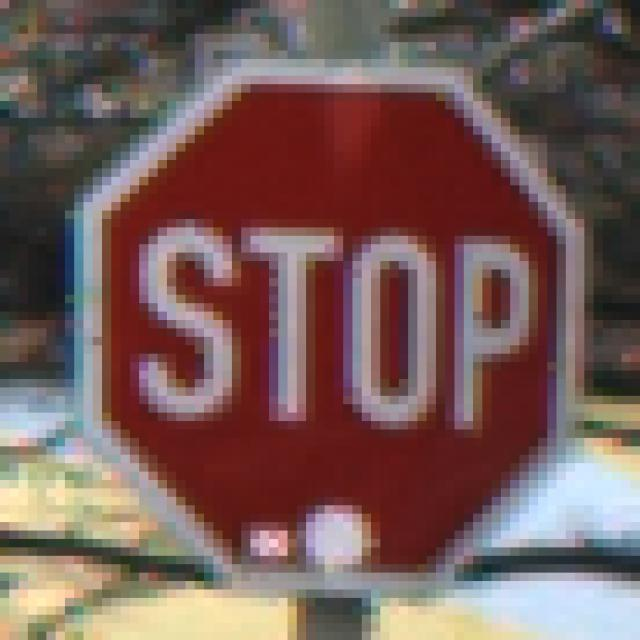STOP: (66, 60, 585, 590)
